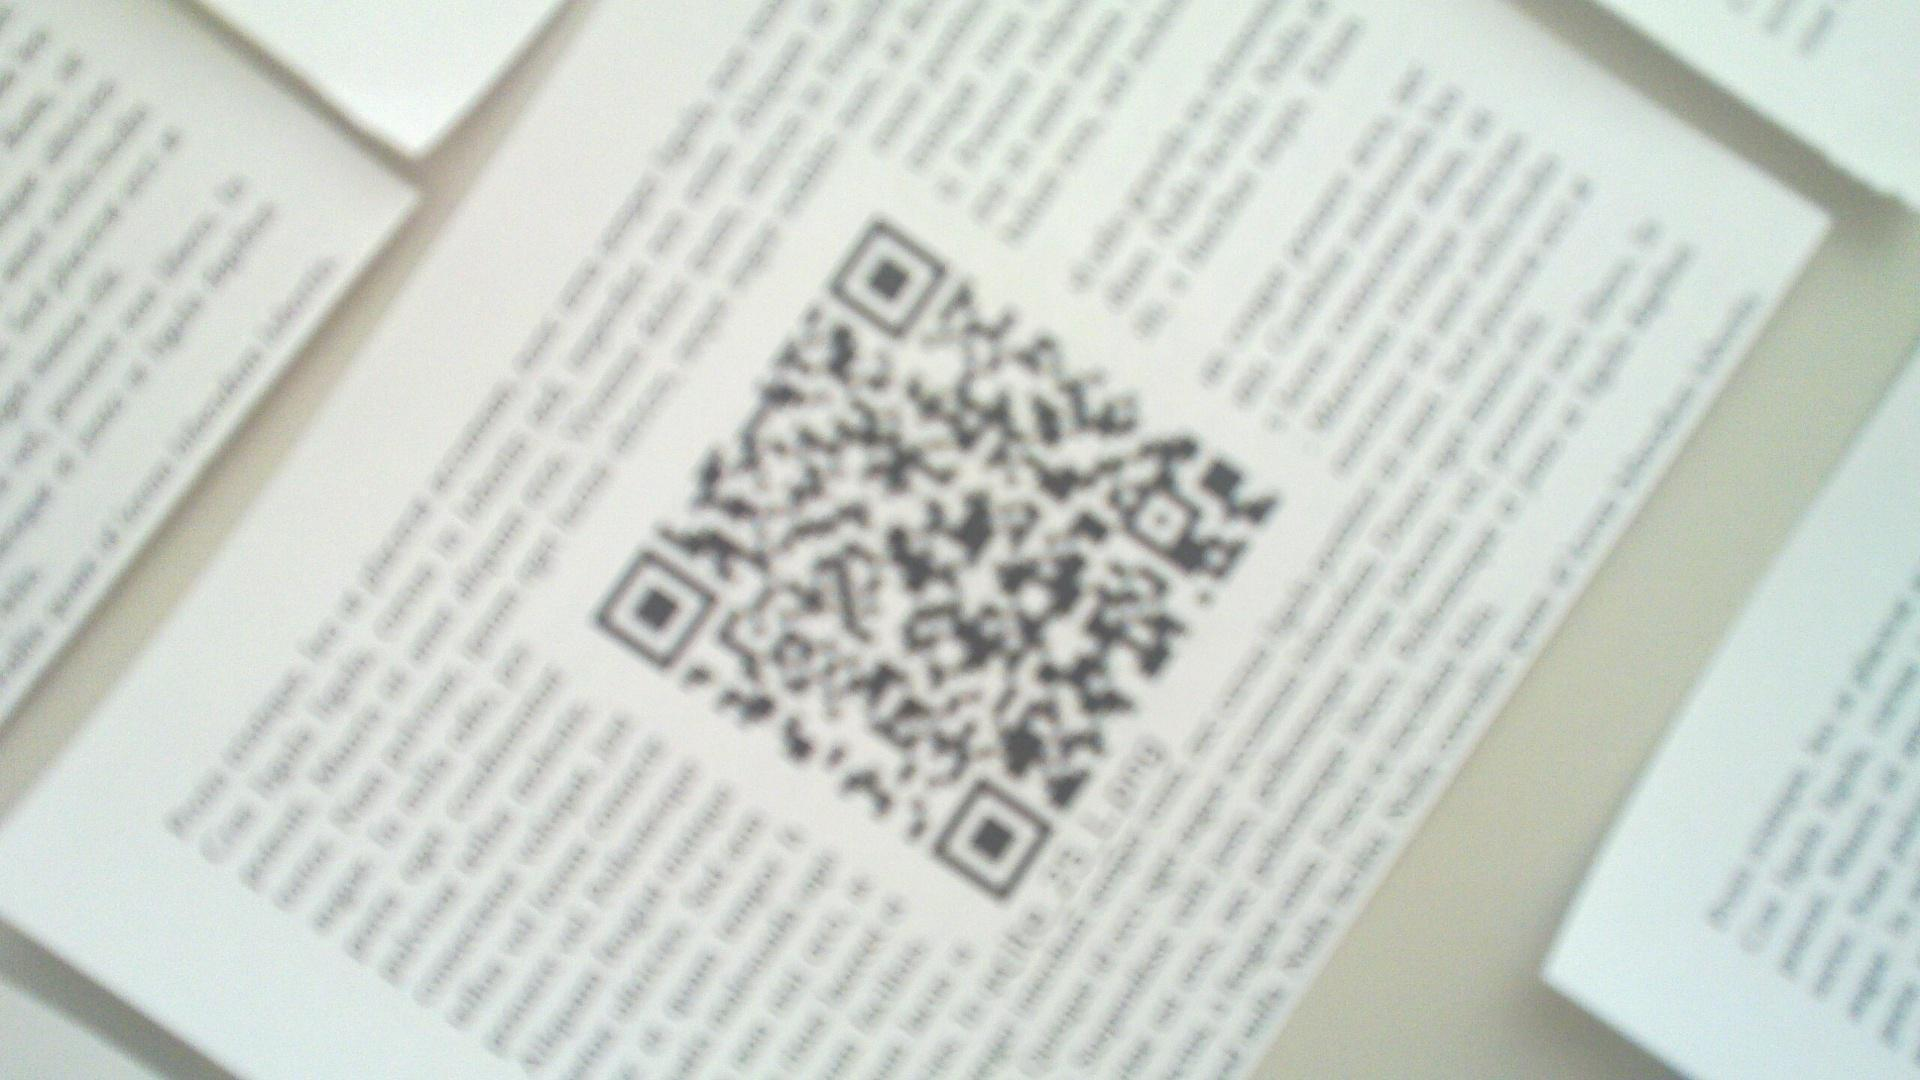qr_code: (592, 222, 1283, 901)
